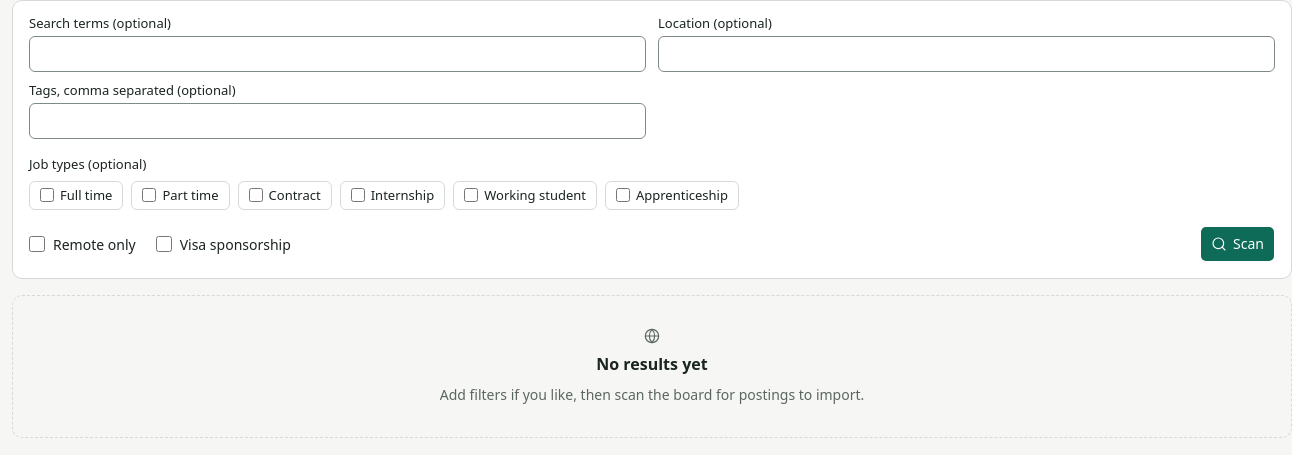
Test: ArbeitnowPage results › omits the empty parts of the subtitle
This screenshot has width=1292, height=455.
Click the button with test id "arbeitnowScanButton" at [1238, 244], box [1200,226,1275,262]
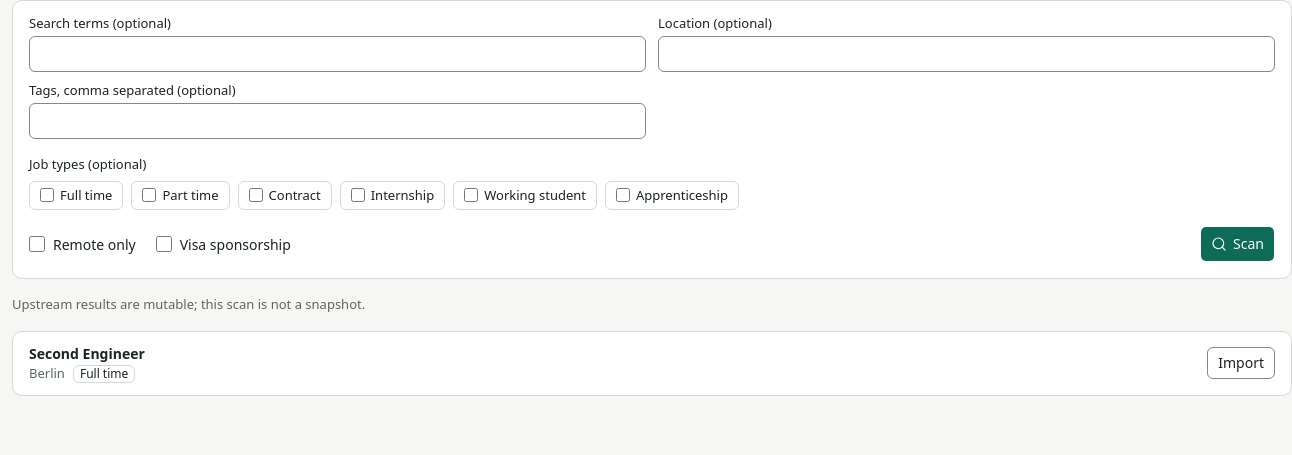
Check: the text "Second Engineer" is shown, box [29,344,145,362]
Check: the text "Berlin" is shown, box [29,365,65,383]
